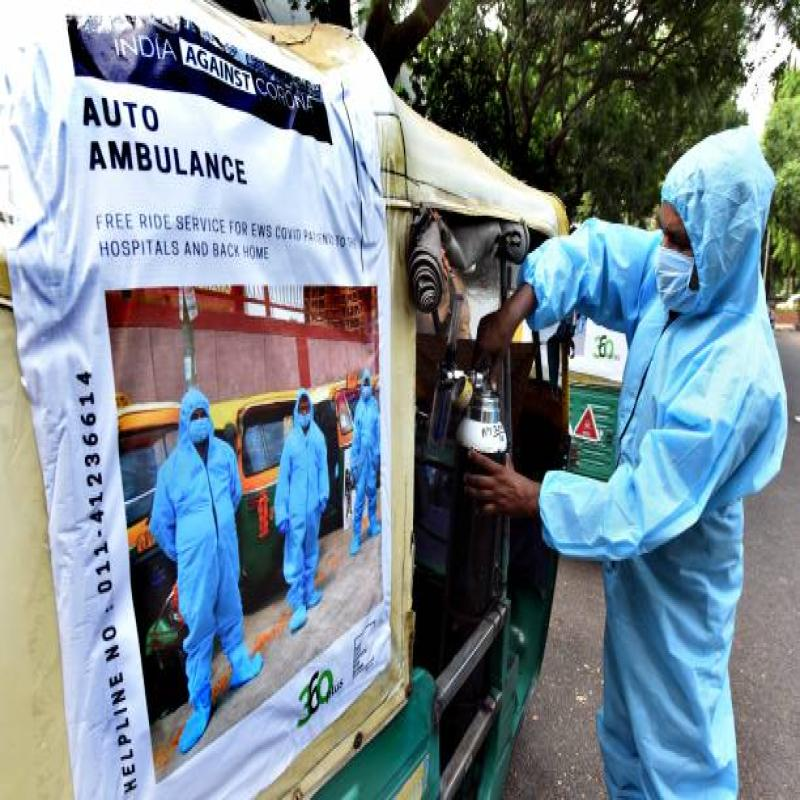ambulance: (0, 0, 443, 800)
